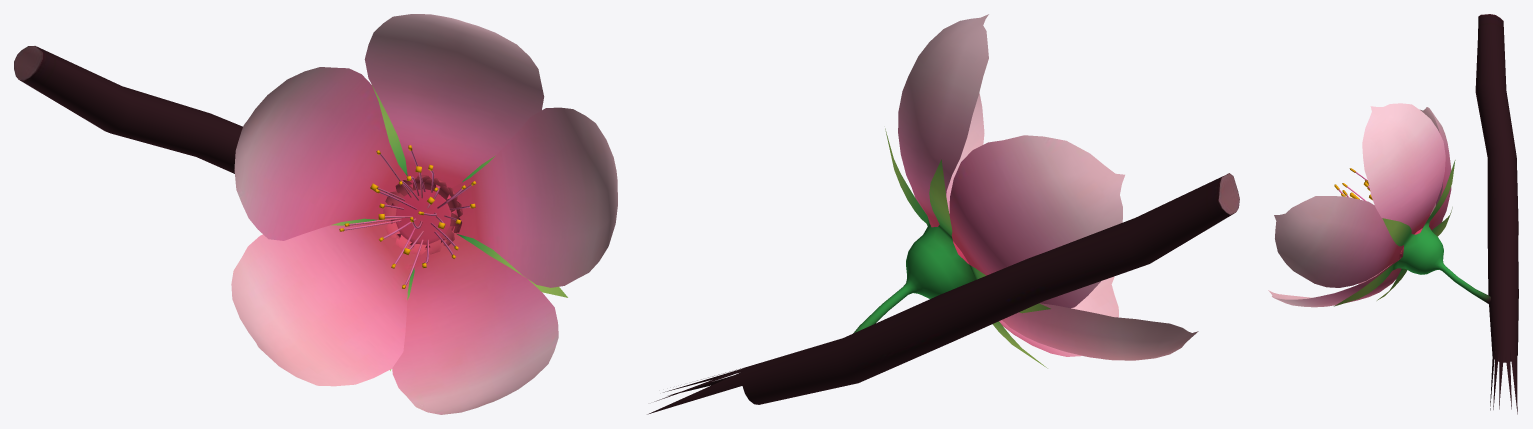
The picture shows the model from 3 angles, left to right: view 1: azimuth 30°, elevation 25°; view 2: azimuth 150°, elevation 25°; view 3: azimuth 270°, elevation 25°; orthographic projection. The views are drawn at different scales.
Parts seen in each view (by area): view 1: f794c81a; view 2: f794c81a; view 3: f794c81a.
Part boxes in pixels (x1,y1,x2,y2): f794c81a: (14,14,617,414); f794c81a: (647,14,1239,414); f794c81a: (1268,14,1518,414).
Bounding box in the file's own units: 0.219 × 0.1353 × 0.1293.
Materials: 1 (1 with a texture image).
